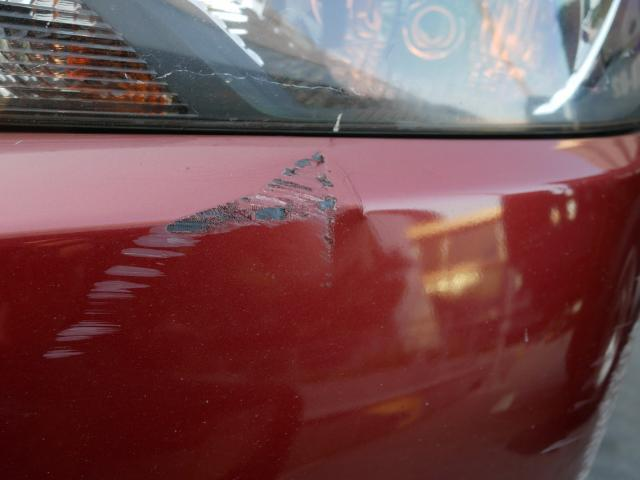scratch: (39, 144, 339, 370)
